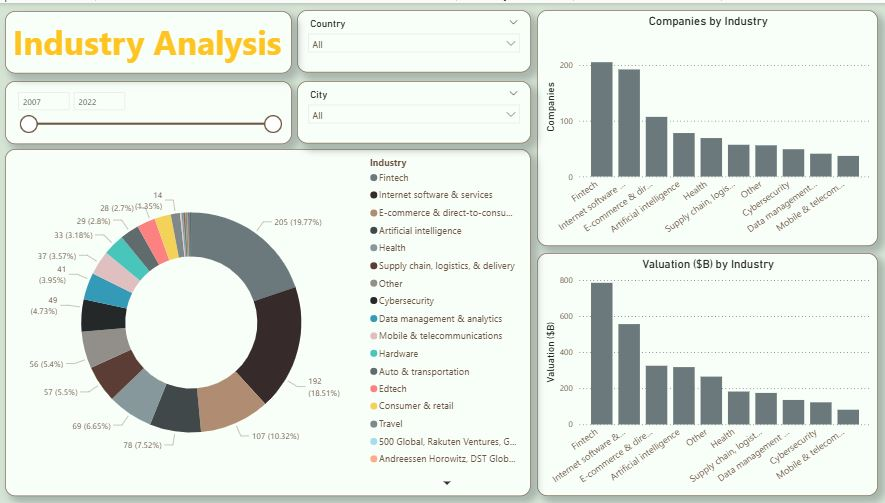

This screenshot's page, from the dashboard's own definition file:
{"tool":"powerbi","page":{"name":"Industry view","canvas":[1280,720],"ordinal":4},"visuals":[{"type":"slicer","fields":{"Values":["Unicorn_Companies.Country"]},"box":[432,10.1,337,90],"z":0},{"type":"slicer","fields":{"Values":["Unicorn_Companies.Date Joined.Variation.Date Hierarchy.Year"]},"box":[11.5,112.3,413.3,90.7],"z":1000},{"type":"columnChart","fields":{"Category":["Unicorn_Companies.Industry"],"Y":["CountNonNull(Unicorn_Companies.Company)"]},"box":[777.6,10.1,491,339.8],"z":2000},{"type":"columnChart","fields":{"Category":["Unicorn_Companies.Industry"],"Y":["Sum(Unicorn_Companies.Valuation ($B))"]},"box":[777.6,360,491,349.9],"z":3000},{"type":"donutChart","fields":{"Category":["Unicorn_Companies.Industry"],"Y":["CountNonNull(Unicorn_Companies.Company)"]},"box":[11.5,210.2,757.4,499.7],"z":4000},{"type":"slicer","fields":{"Values":["Unicorn_Companies.City"]},"box":[432,112.3,337,90],"z":5000},{"type":"textbox","box":[11.5,11.5,413,90],"z":6000},{"type":"shape","box":[11.5,25.9,401.8,63.4],"z":7000}]}

Visuals, with their boxes in screenshot pixels (x1, y1, x2, y2), scaled from the page's 1280x720 canvas onto the 885x503 screenshot:
slicer - Unicorn_Companies.Country: (299,7,532,70)
slicer - Unicorn_Companies.Date Joined.Variation.Date Hierarchy.Year: (8,78,294,142)
columnChart - Unicorn_Companies.Industry x CountNonNull(Unicorn_Companies.Company): (538,7,877,244)
columnChart - Unicorn_Companies.Industry x Sum(Unicorn_Companies.Valuation ($B)): (538,252,877,496)
donutChart - Unicorn_Companies.Industry x CountNonNull(Unicorn_Companies.Company): (8,147,532,496)
slicer - Unicorn_Companies.City: (299,78,532,141)
textbox: (8,8,294,71)
shape: (8,18,286,62)
